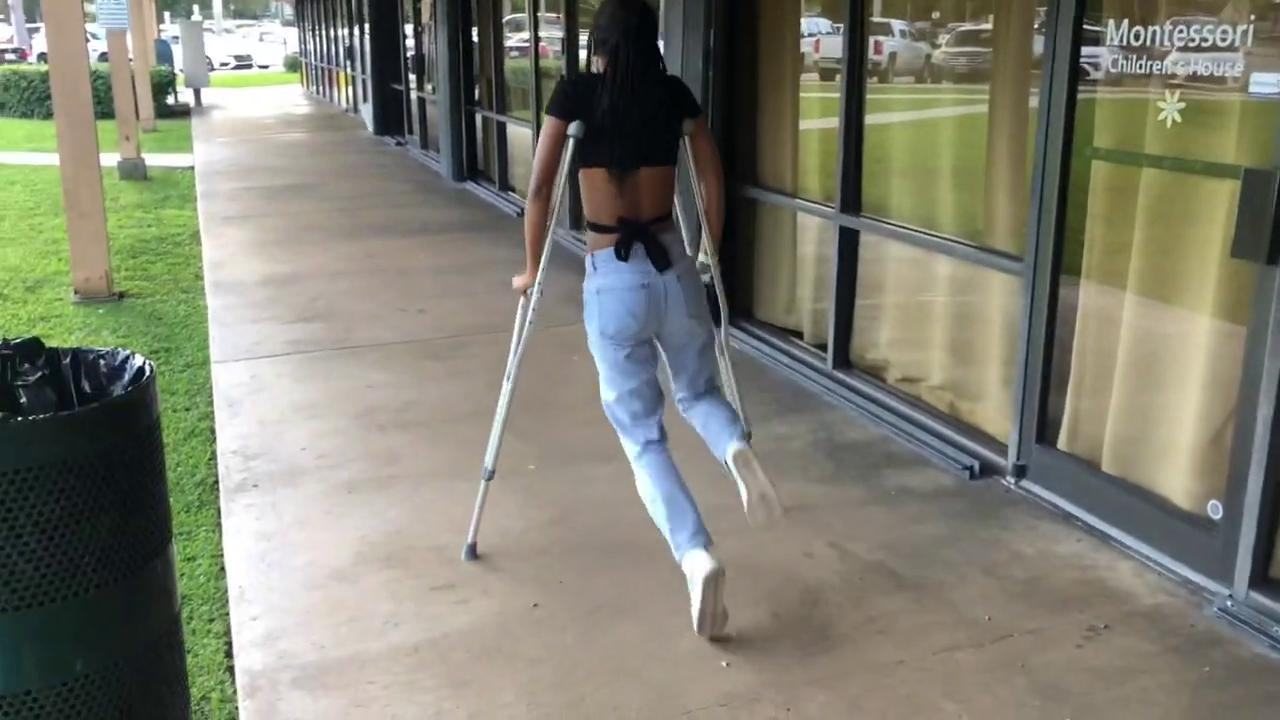crutches: (463, 1, 777, 636)
